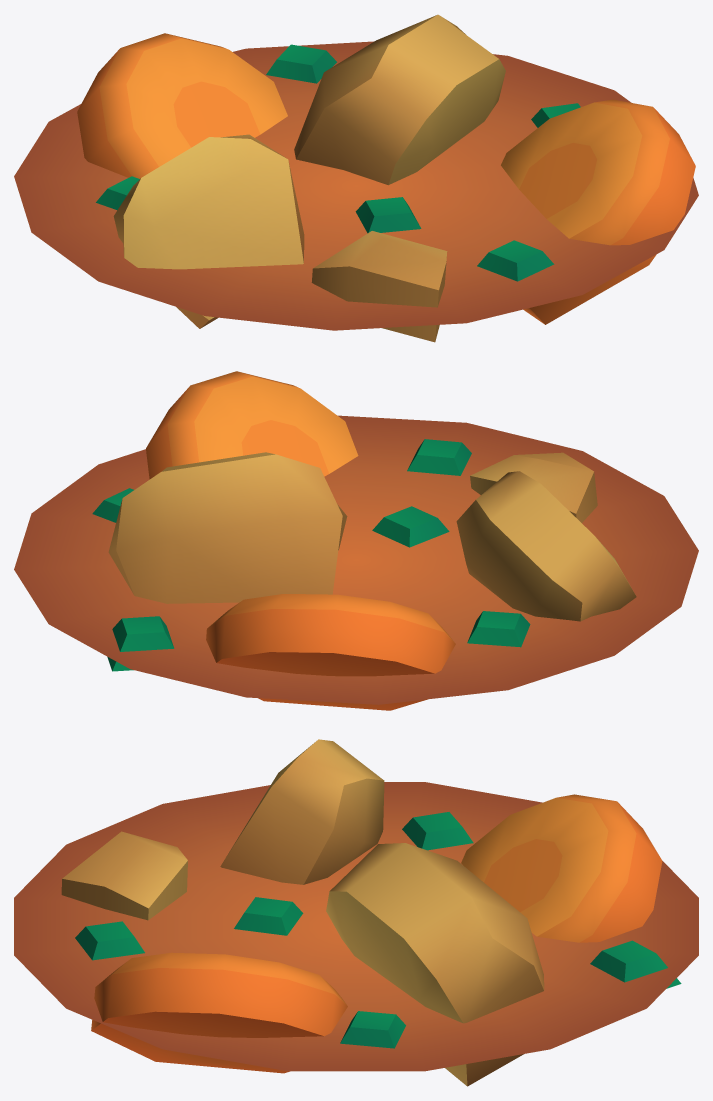
The model's file is stew_pot.obj.
3 views of the same model, one above another, from view 1: azimuth 30°, elevation 25°; view 2: azimuth 150°, elevation 25°; view 3: azimuth 270°, elevation 25° (orthographic).
Parts seen in each view (by area): view 1: stew_pot_Cylinder.003; view 2: stew_pot_Cylinder.003; view 3: stew_pot_Cylinder.003.
Boxes of the visible parts, x1,y1,x2,y2 form: stew_pot_Cylinder.003: (14, 14, 698, 342); stew_pot_Cylinder.003: (14, 371, 698, 710); stew_pot_Cylinder.003: (14, 739, 698, 1086).
Bounding box in the file's own units: 0.737 × 0.25 × 0.737.
1 material, 1 textured.
